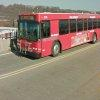Bus: (13, 7, 100, 59)
